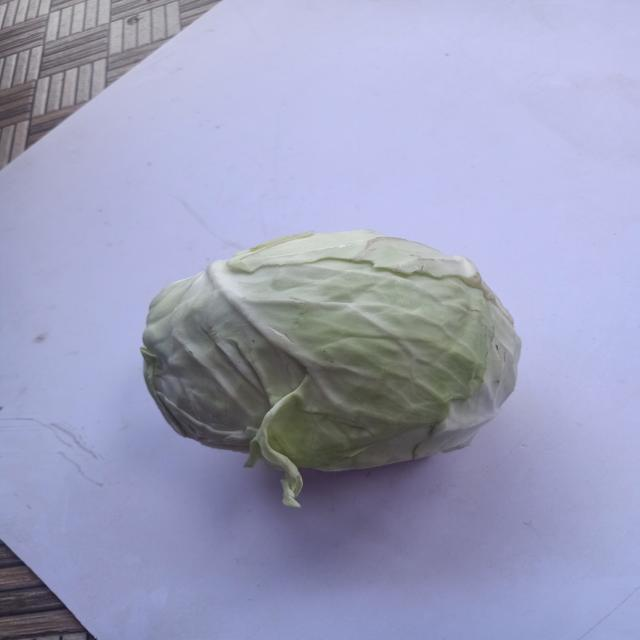Cabbage: (99, 222, 558, 528)
